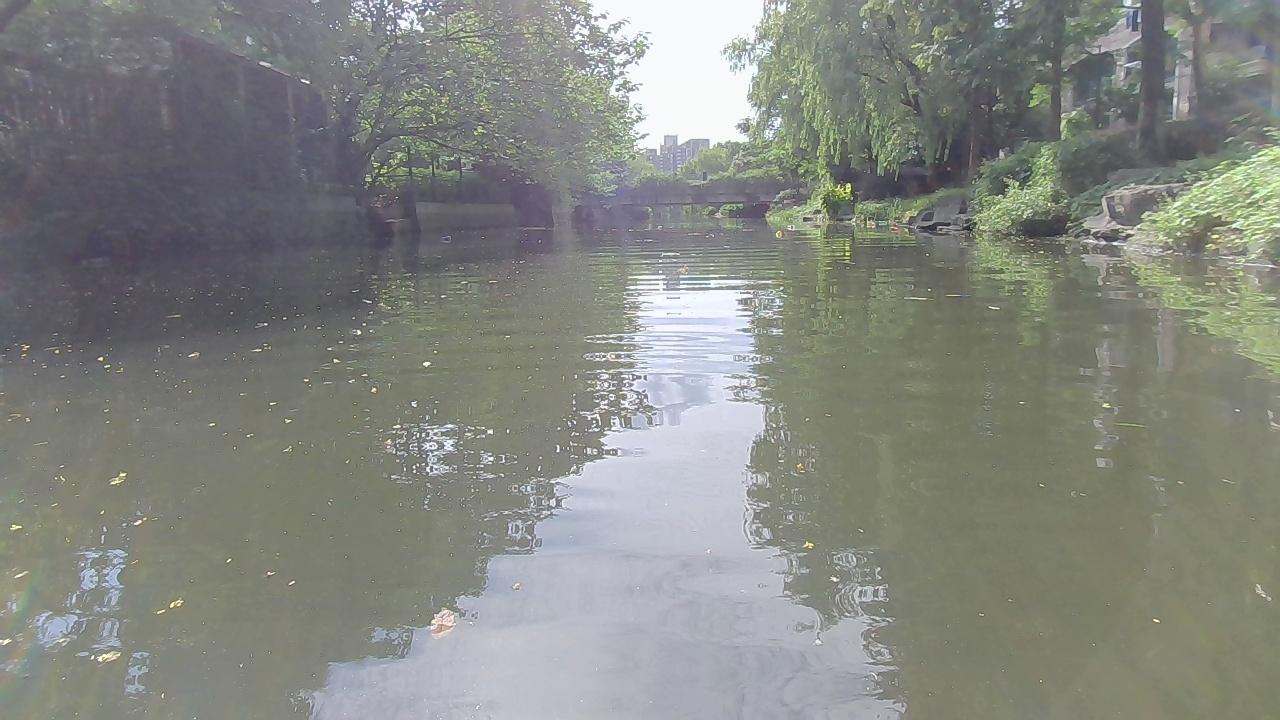bottle: (775, 229, 783, 238), (887, 225, 899, 231), (876, 218, 885, 224), (785, 224, 793, 229)
